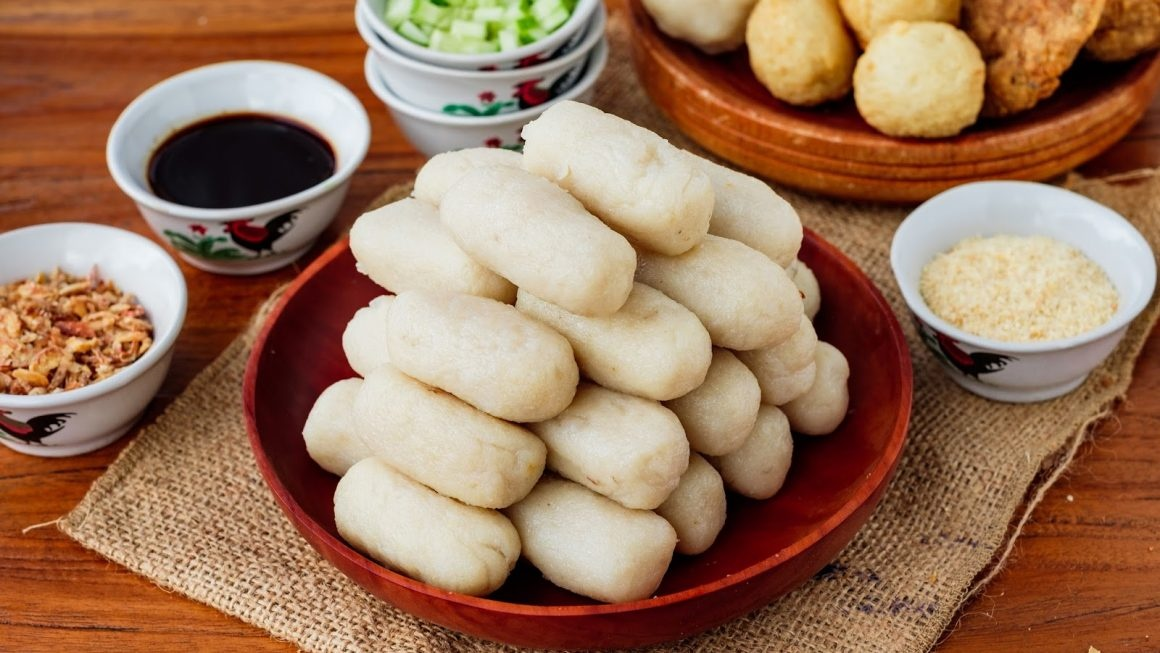pempek: (334, 89, 849, 606)
